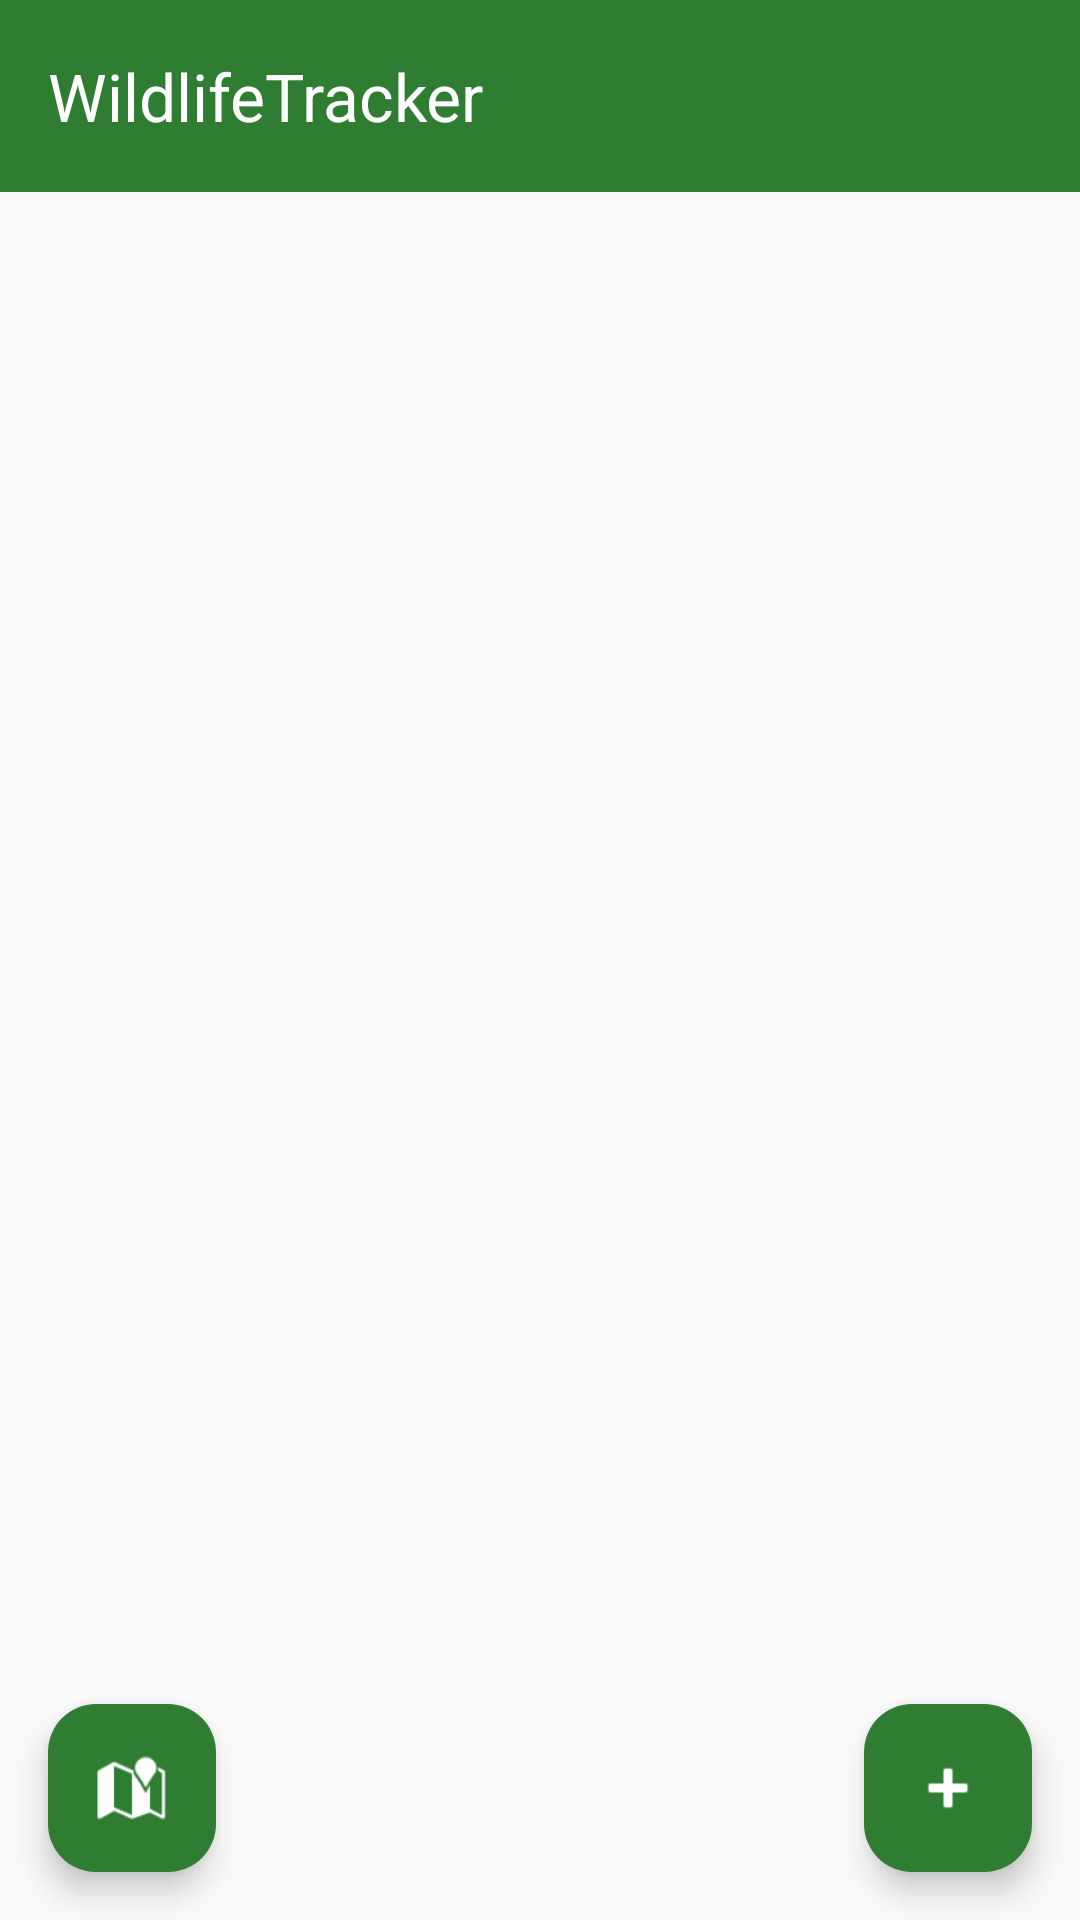

Icons on this 1080w x 1920h Android screen, each with the point to tap as [x,y]:
New Sighting: [948,1788]
Ver mapa: [132,1788]
